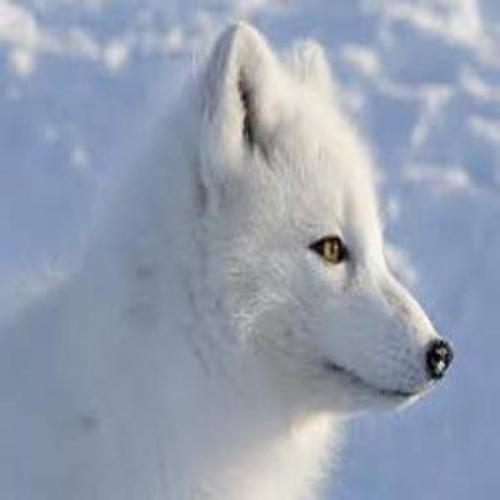arctic_fox-endangered: (0, 20, 453, 500)
